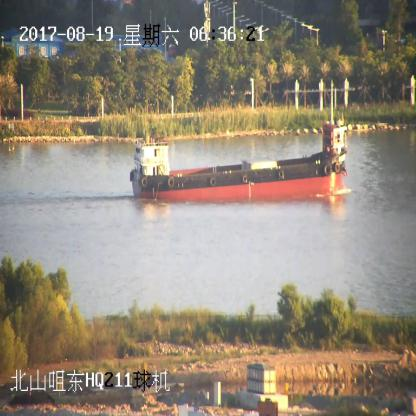Bulk Carrier: (131, 118, 345, 204)
